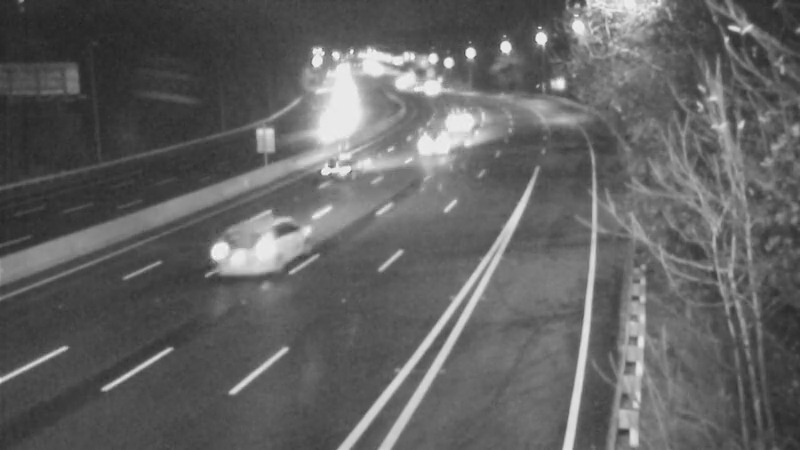vehicle: (304, 127, 384, 207), (193, 213, 273, 293), (403, 62, 453, 112), (433, 90, 483, 140), (409, 119, 459, 169)
